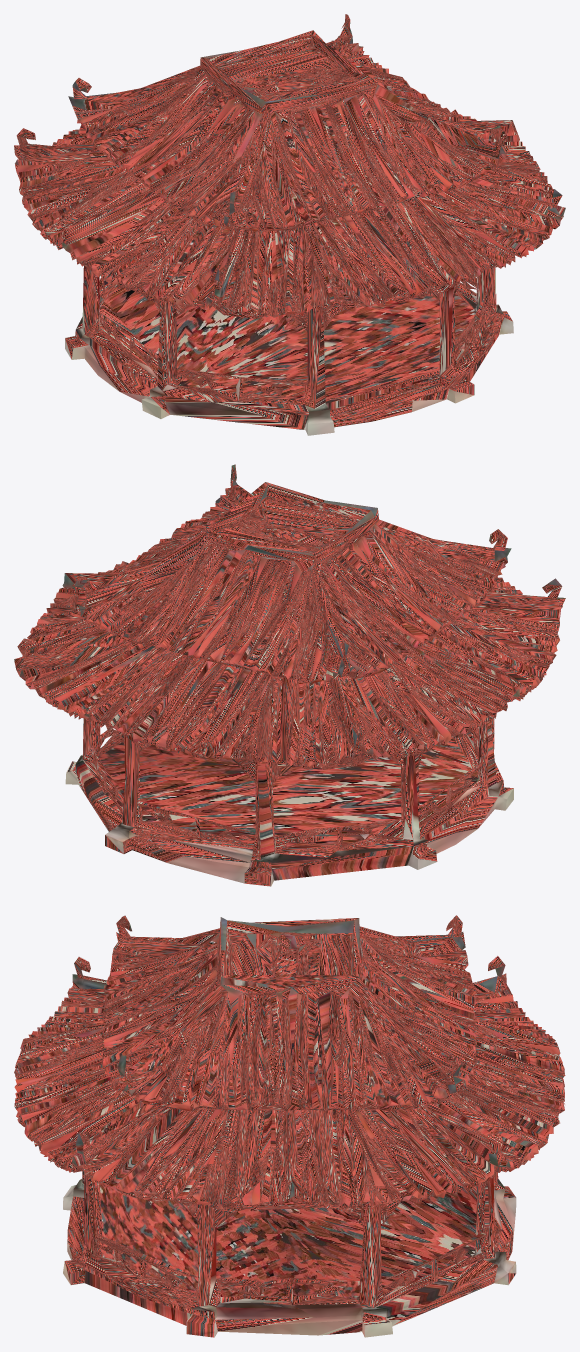
The model's file is lib_garden_pav.lod.glb.
3 renders of one model, top to bottom at view 1: azimuth 30°, elevation 25°; view 2: azimuth 150°, elevation 25°; view 3: azimuth 270°, elevation 25°, orthographic. The views are drawn at different scales.
Parts seen in each view (by area): view 1: output_unwrapped; view 2: output_unwrapped; view 3: output_unwrapped.
Part boxes in pixels (x1,y1,x2,y2): output_unwrapped: (14, 14, 565, 435); output_unwrapped: (14, 464, 565, 886); output_unwrapped: (14, 915, 565, 1337).
Bounding box in the file's own units: 2 × 1.15 × 1.95.
Materials: 1 (1 with a texture image).
